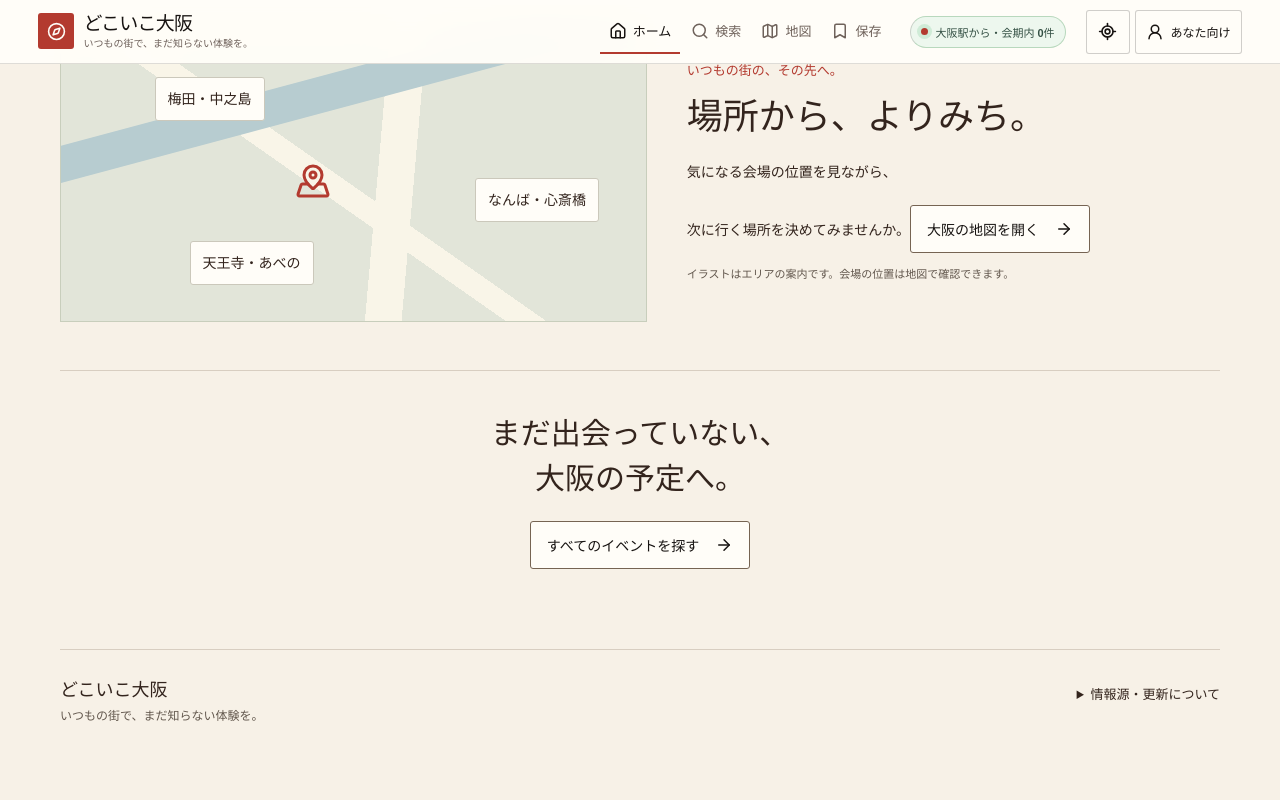
Test: App editorial home integration › filters by evidence-backed tags without duplicating the free option
The width and height of the screenshot is (1280, 800).
(page scrolled)
Click the button "すべてのイベントを探す" at coordinates (640, 545), box 530,521 -> 750,569
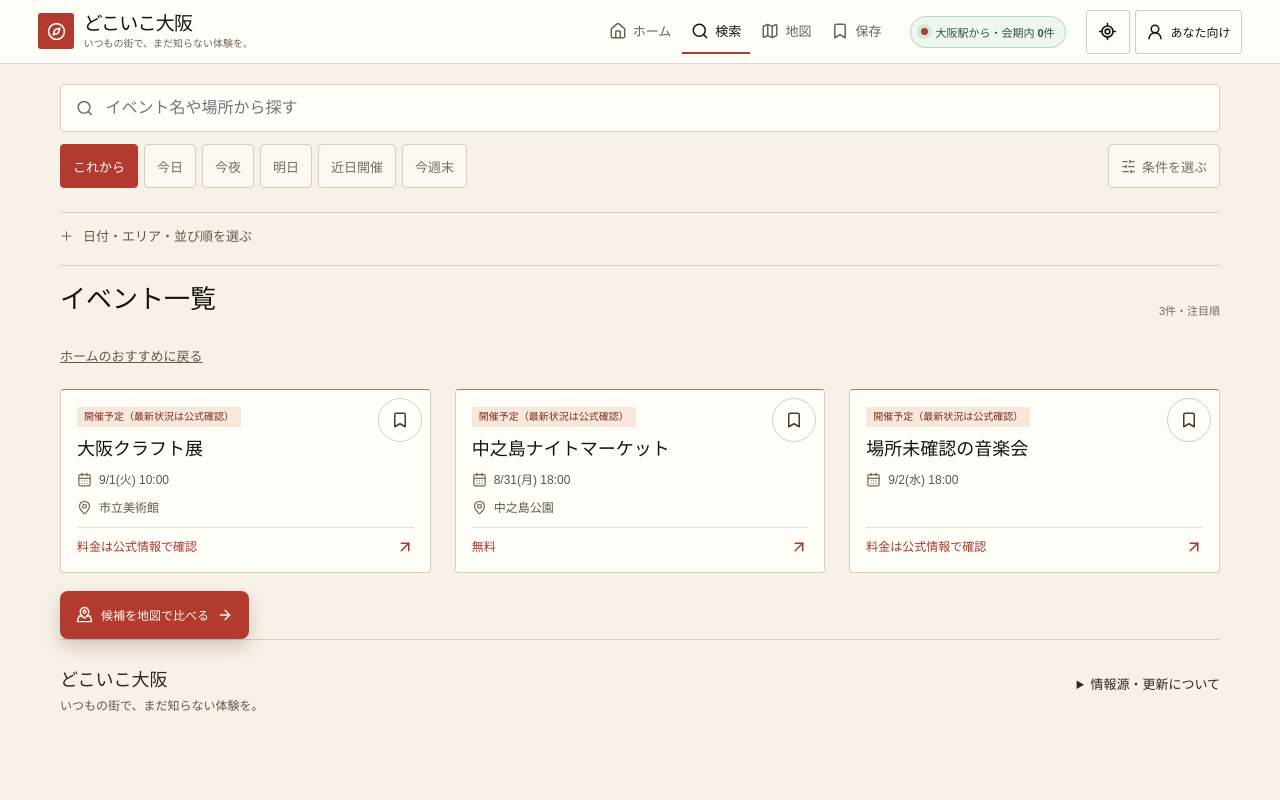
Click the button "条件を選ぶ" at coordinates (1164, 166), box 1108,144 -> 1220,188
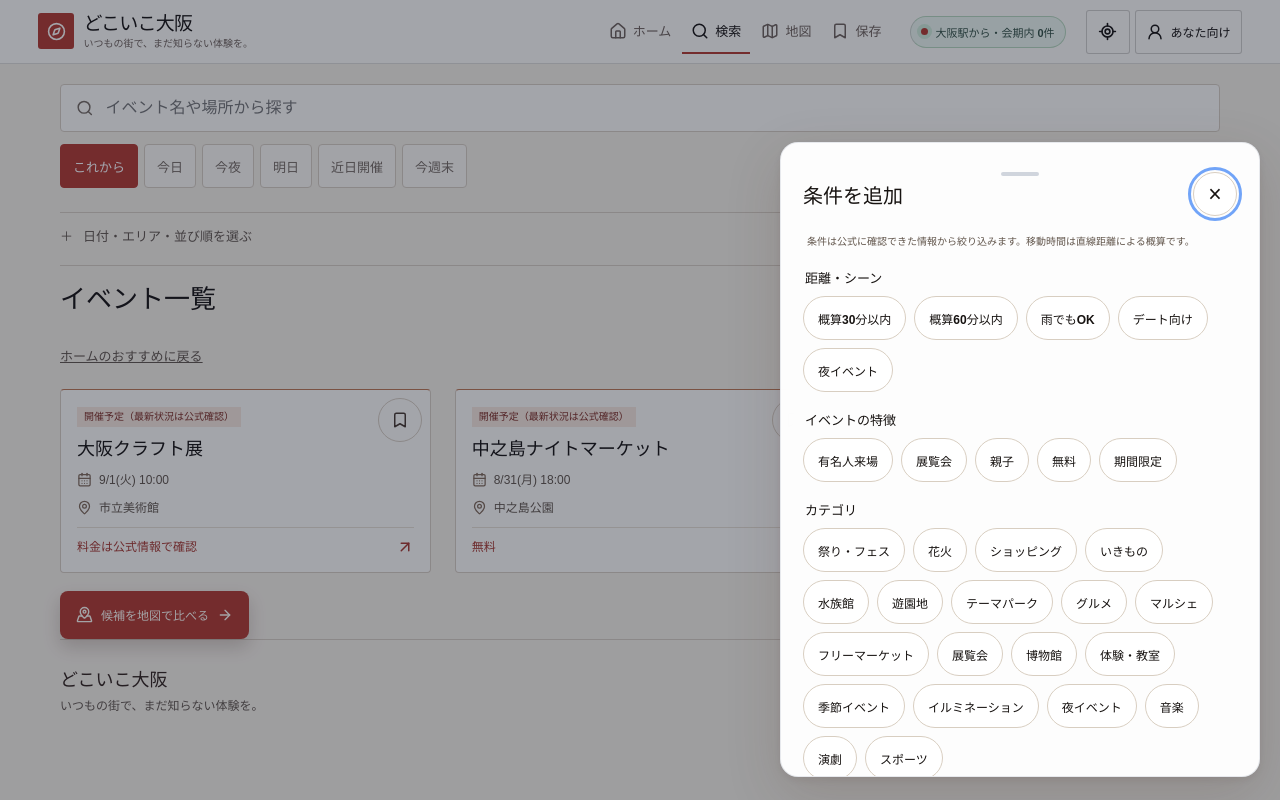
Click the button "有名人来場" at coordinates (848, 460), box 803,438 -> 893,482
(page scrolled)
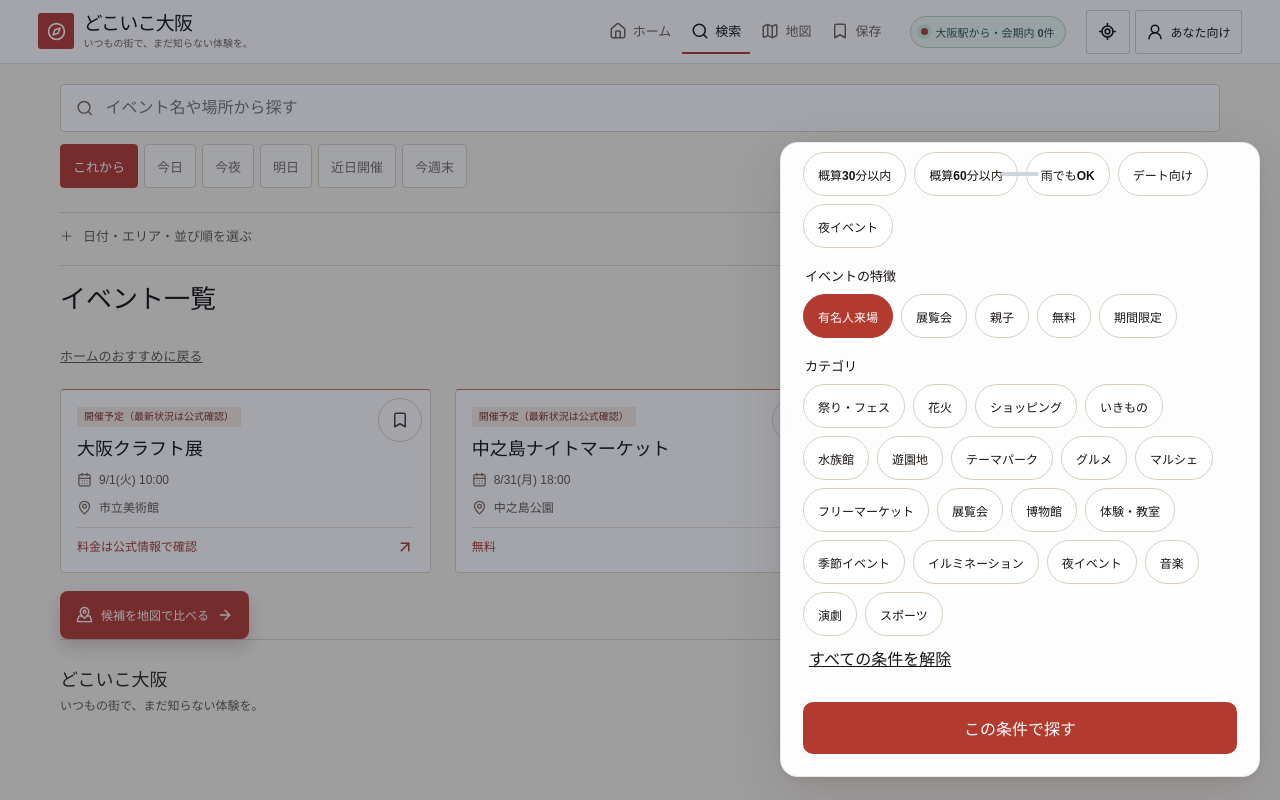
Click the button "この条件で探す" at coordinates (1020, 728), box 803,702 -> 1237,754
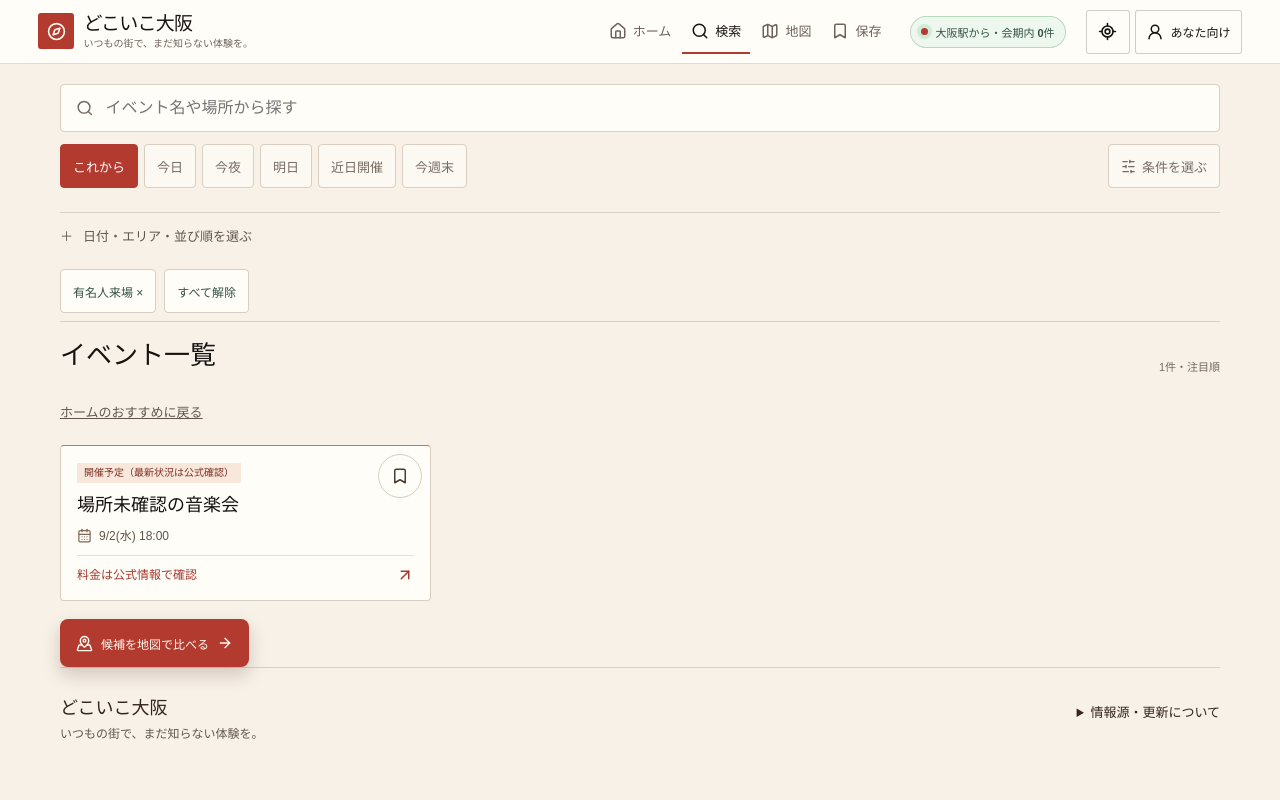
expect the text "場所未確認の音楽会" is shown: met, box 77,495 -> 239,515
expect the link "中之島ナイトマーケット" is gone: met
